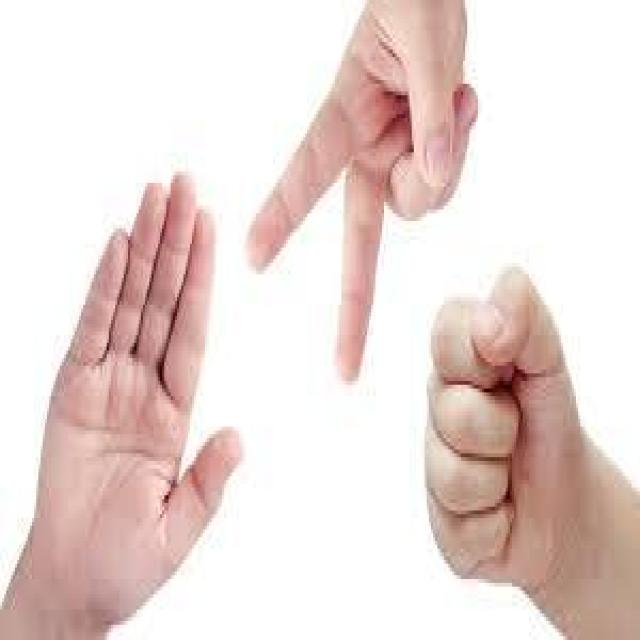paper: (27, 139, 243, 624)
rock: (424, 254, 600, 626)
scirssors: (247, 13, 418, 395)
